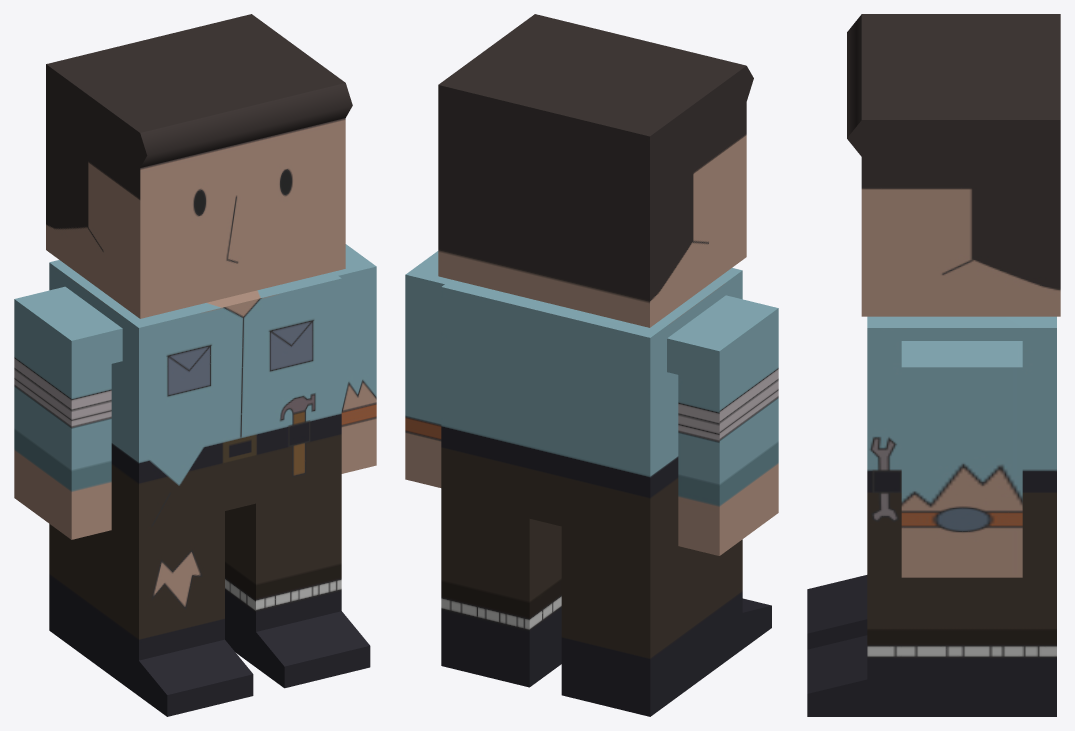
The model's file is Character1.fbx.
The picture shows the model from 3 angles, left to right: view 1: azimuth 30°, elevation 25°; view 2: azimuth 150°, elevation 25°; view 3: azimuth 270°, elevation 25°; orthographic projection. The views are drawn at different scales.
Visible parts, largest first — view 1: character_box_01; view 2: character_box_01; view 3: character_box_01.
Boxes of the visible parts, left/top/right/bottom form: character_box_01: left=14, top=14, right=376, bottom=716; character_box_01: left=405, top=14, right=778, bottom=716; character_box_01: left=807, top=14, right=1060, bottom=716.
Size of the model in its own units: 47.73 by 84.53 by 32.48.
1 material, 1 textured.
